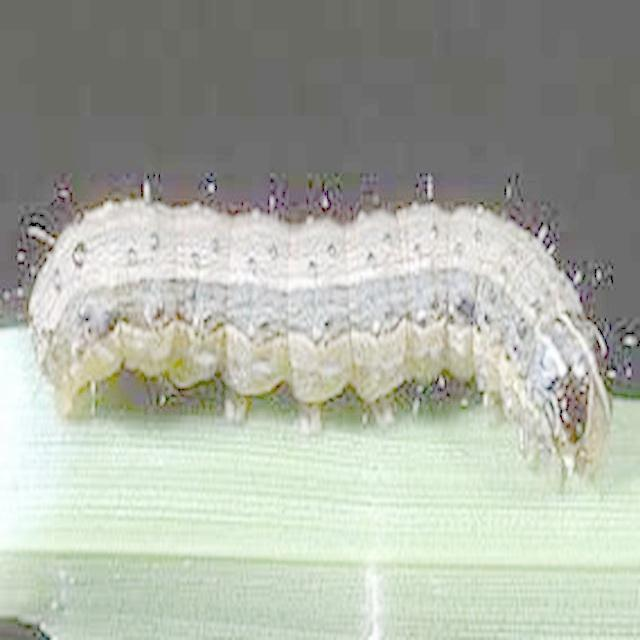Plaga: (7, 172, 640, 494)
